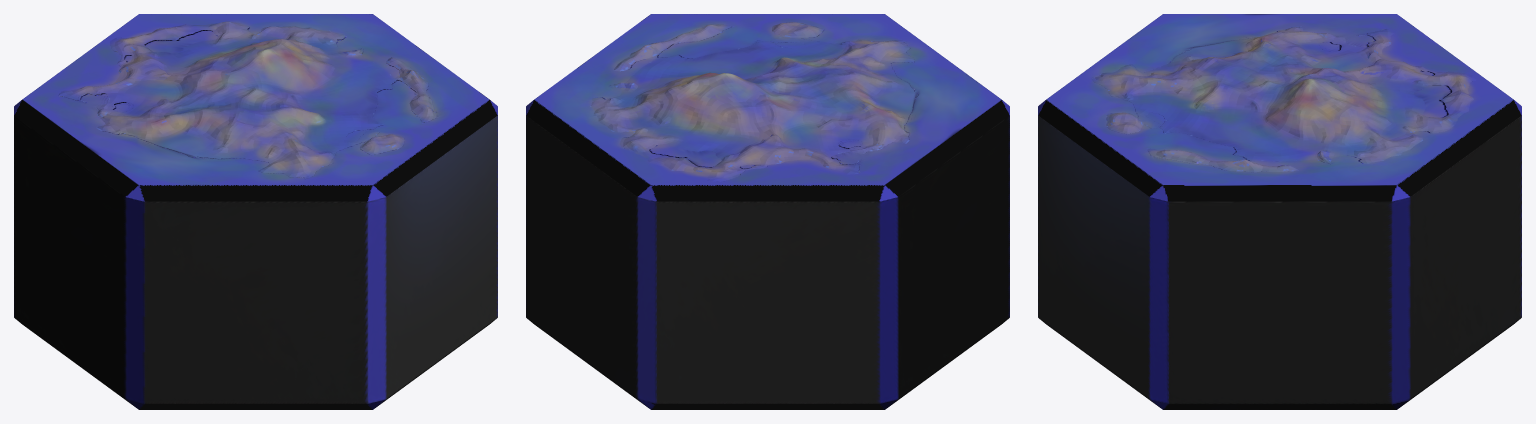
The model's file is Blue.02.fbx.
The picture shows the model from 3 angles, left to right: view 1: azimuth 30°, elevation 25°; view 2: azimuth 150°, elevation 25°; view 3: azimuth 270°, elevation 25°; orthographic projection.
Parts seen in each view (by area): view 1: 02.Blue; view 2: 02.Blue; view 3: 02.Blue.
Boxes of the visible parts, <box> form: 02.Blue: <box>14,14,497,409</box>; 02.Blue: <box>526,14,1009,409</box>; 02.Blue: <box>1038,14,1521,409</box>.
Size of the model in its own units: 173 by 114 by 195.
1 material, 1 textured.
